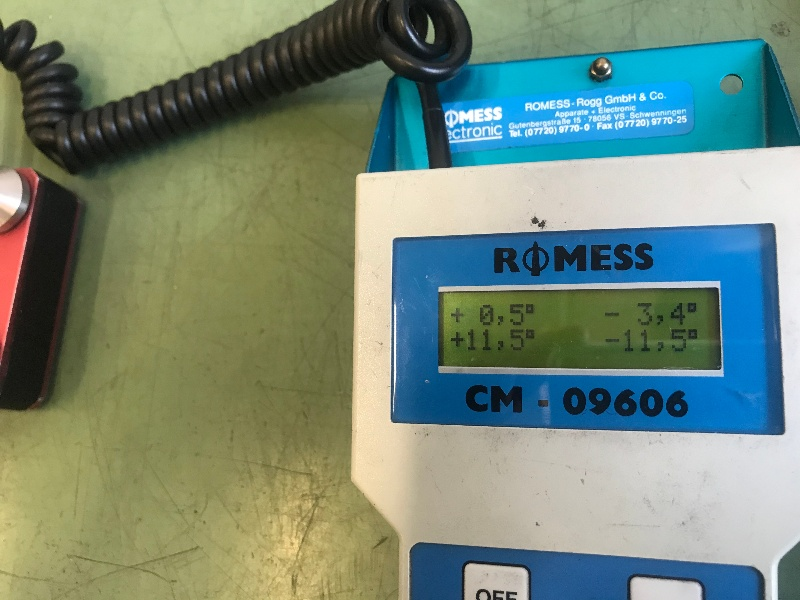ins_two: (391, 234, 784, 431)
